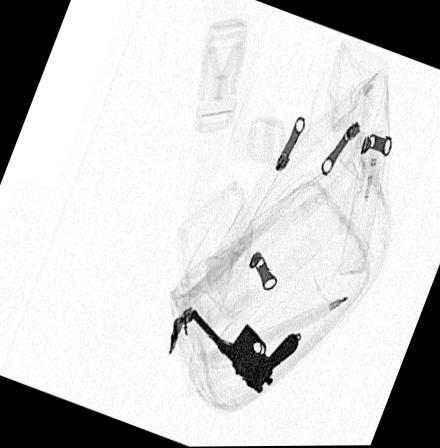Gun: (188, 306, 298, 396)
